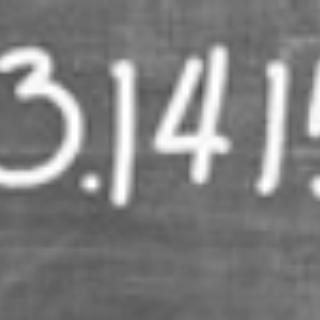.: (79, 168, 102, 201)
1: (253, 60, 292, 199), (106, 54, 138, 211)
3: (1, 41, 86, 199)
4: (150, 39, 239, 191)
